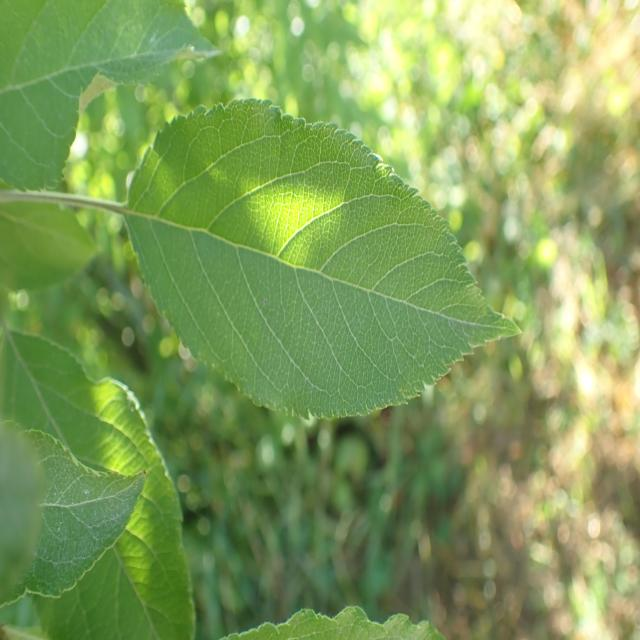healthy: (125, 98, 524, 423), (0, 326, 196, 640), (0, 0, 224, 193), (0, 420, 148, 609), (219, 604, 446, 640)
